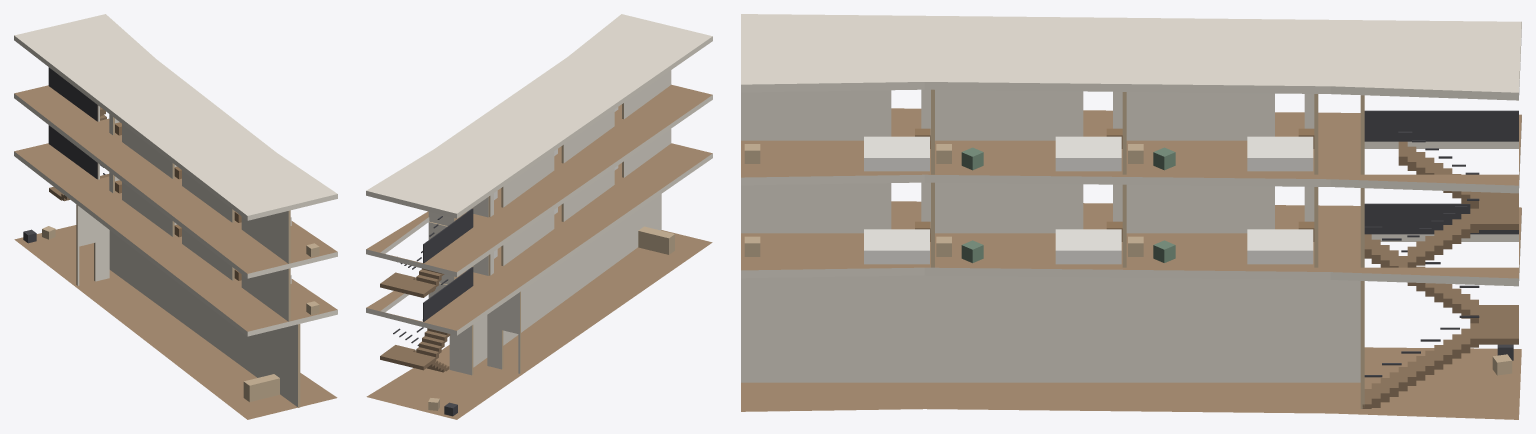
File: interior.glb
3 views of the same model, side by side, from view 1: azimuth 30°, elevation 25°; view 2: azimuth 150°, elevation 25°; view 3: azimuth 270°, elevation 25° (orthographic). The views are drawn at different scales.
Parts seen in each view (by area): view 1: slabs, partitions, stair, coarse-s0, coarse-s1, coarse-s2; view 2: slabs, partitions, stair, coarse-s0; view 3: slabs, partitions, stair, coarse-s1, coarse-s2.
Part boxes in pixels (<box>): slabs: <box>14,14,337,419</box>; partitions: <box>76,105,300,407</box>; stair: <box>48,67,109,201</box>; coarse-s0: <box>23,226,279,401</box>; coarse-s1: <box>115,180,319,315</box>; coarse-s2: <box>115,122,319,257</box>; slabs: <box>366,14,712,419</box>; partitions: <box>428,70,671,375</box>; stair: <box>380,208,473,372</box>; coarse-s0: <box>428,226,674,416</box>; slabs: <box>741,14,1521,419</box>; partitions: <box>741,89,1364,408</box>; stair: <box>1362,110,1518,408</box>; coarse-s1: <box>744,221,1314,264</box>; coarse-s2: <box>744,128,1314,171</box>.
Bounding box in the file's own units: 5.62 × 10.91 × 23.55.
